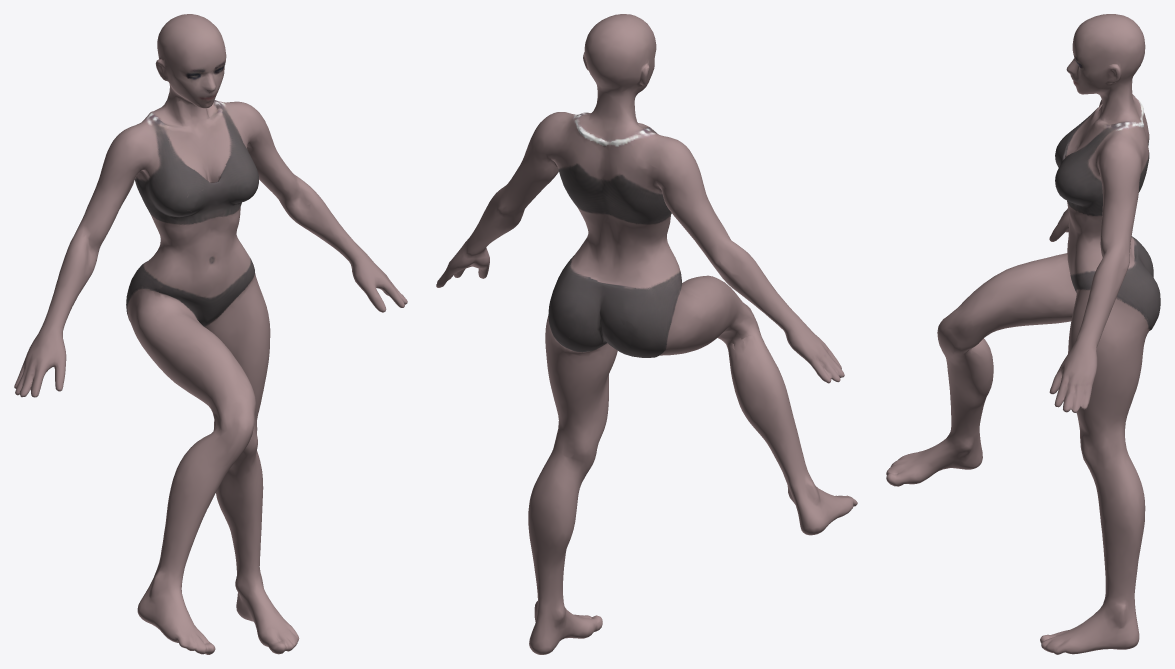
File: 05-ThighL-60-child60-twist-20-candidate.glb
The picture shows the model from 3 angles, left to right: view 1: azimuth 30°, elevation 25°; view 2: azimuth 150°, elevation 25°; view 3: azimuth 270°, elevation 25°; orthographic projection. The views are drawn at different scales.
Visible parts, largest first — view 1: candidate; view 2: candidate; view 3: candidate.
Boxes of the visible parts, <box> form: candidate: <box>14,14,407,654</box>; candidate: <box>436,14,857,654</box>; candidate: <box>886,14,1160,654</box>.
Bounding box in the file's own units: 0.6508 × 1 × 0.4134.
1 material, 1 textured.
